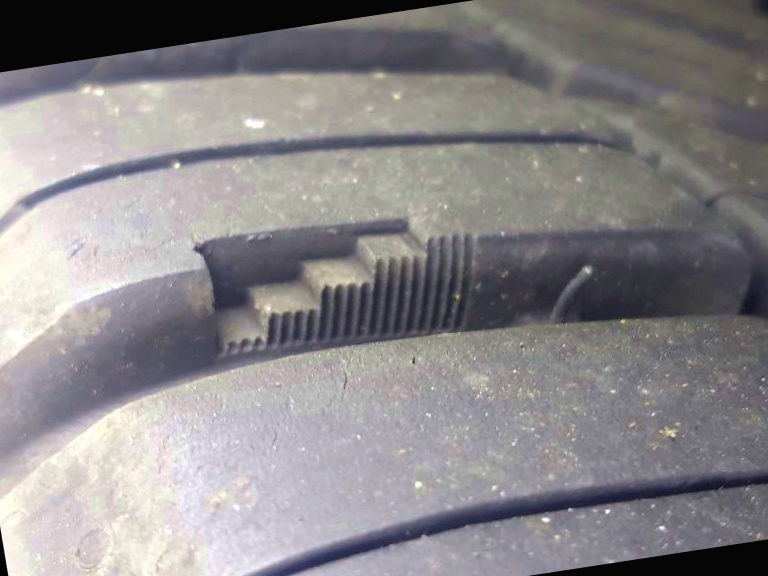temoin:90: (171, 189, 498, 381)
